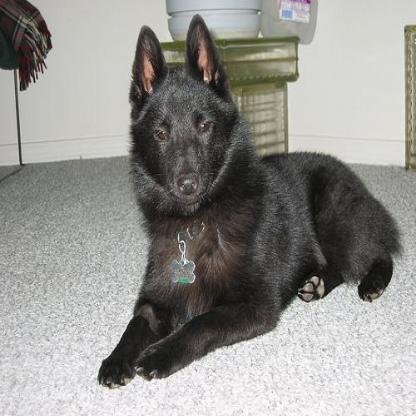schipperke: (93, 6, 399, 392)
